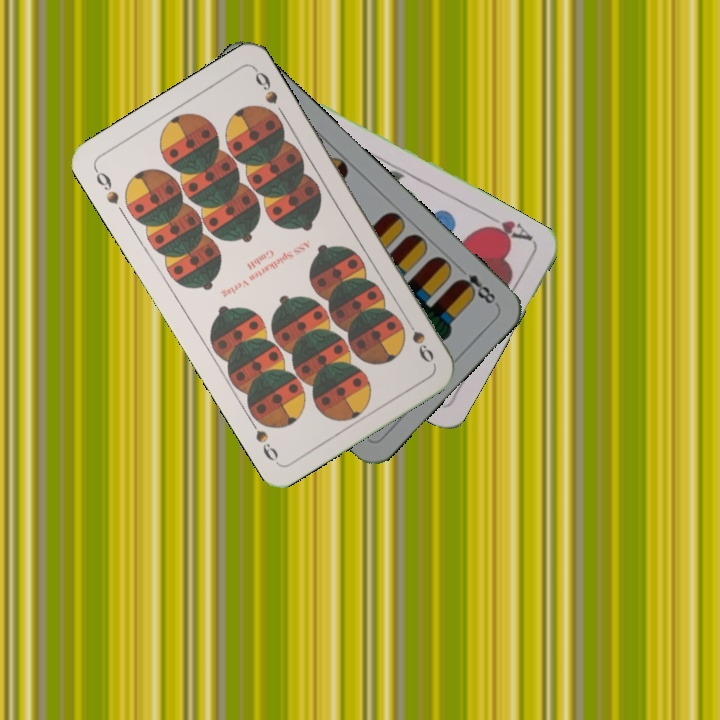E8: (453, 262, 500, 308)
HA: (478, 210, 536, 245)
S9: (401, 313, 437, 366), (90, 164, 122, 207)
